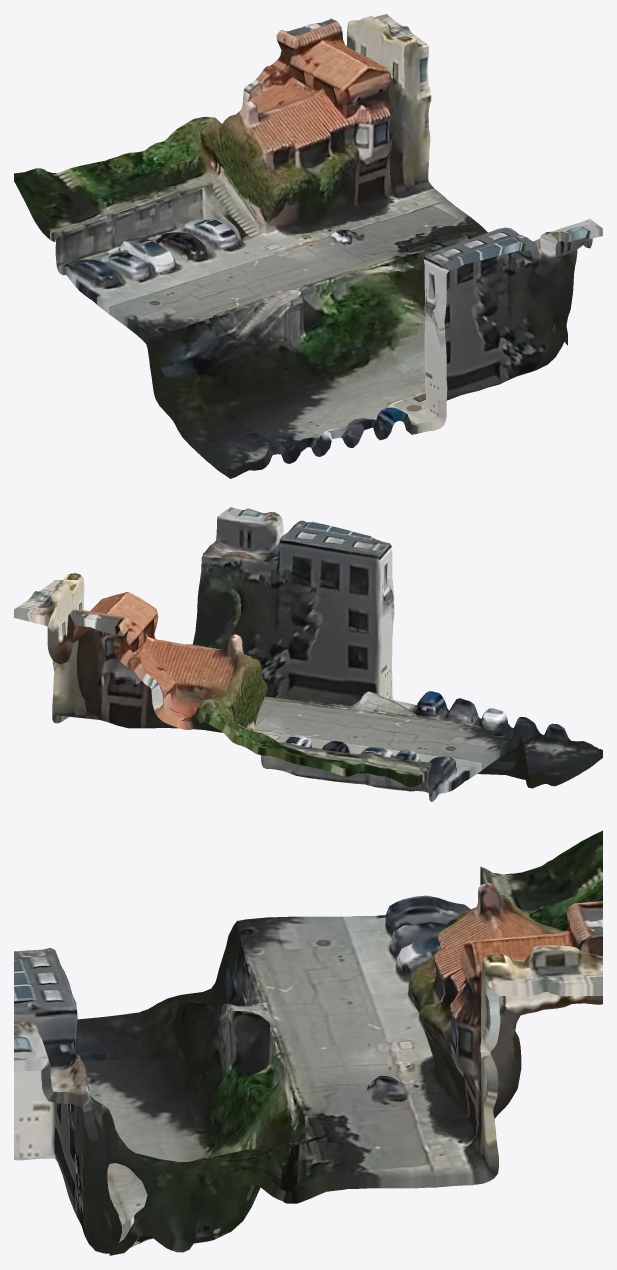
Rendered from z20-167758-405196-h0-yup-uvflip-v3-world.glb.
3 views of the same model, one above another, from view 1: azimuth 30°, elevation 25°; view 2: azimuth 150°, elevation 25°; view 3: azimuth 270°, elevation 25° (orthographic). The views are drawn at different scales.
Bounding box in the file's own units: 30.16 × 18 × 30.32.
1 material, 1 textured.
